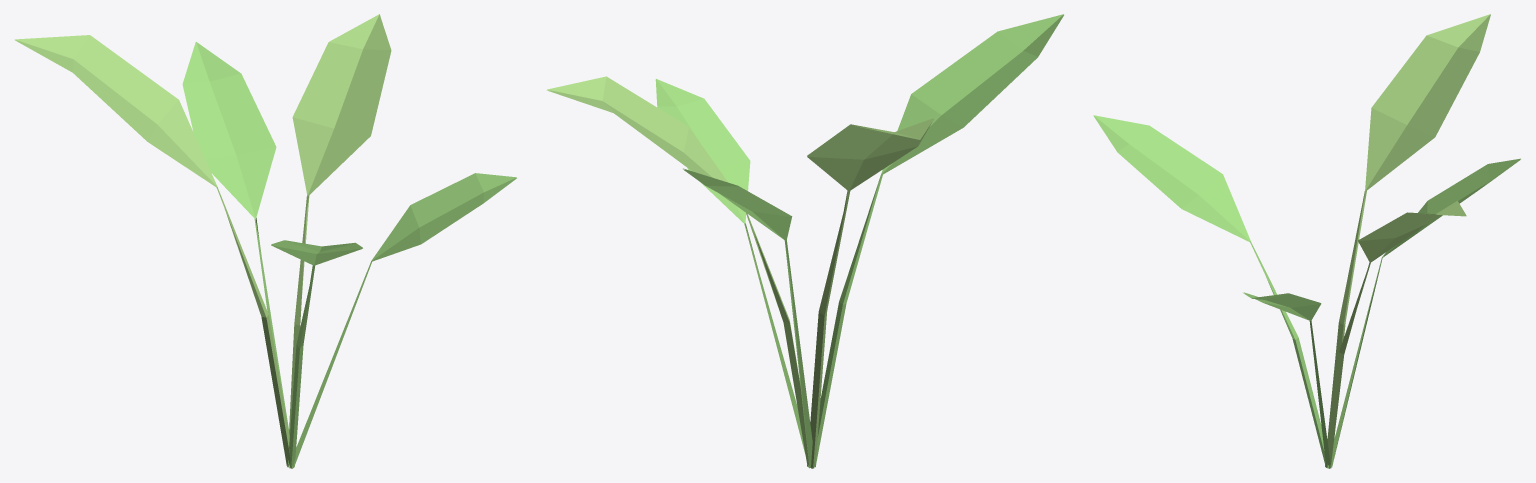
File: Plant_j_TwoS_04.fbx
3 views of the same model, side by side, from view 1: azimuth 30°, elevation 25°; view 2: azimuth 150°, elevation 25°; view 3: azimuth 270°, elevation 25° (orthographic). The views are drawn at different scales.
Visible parts, largest first — view 1: Plant_j_TwoS_04; view 2: Plant_j_TwoS_04; view 3: Plant_j_TwoS_04.
Boxes of the visible parts, x1,y1,x2,y2 form: Plant_j_TwoS_04: (15,14,516,468); Plant_j_TwoS_04: (547,14,1063,468); Plant_j_TwoS_04: (1093,14,1520,468).
Size of the model in its own units: 0.5038 by 0.5296 by 0.5546.
